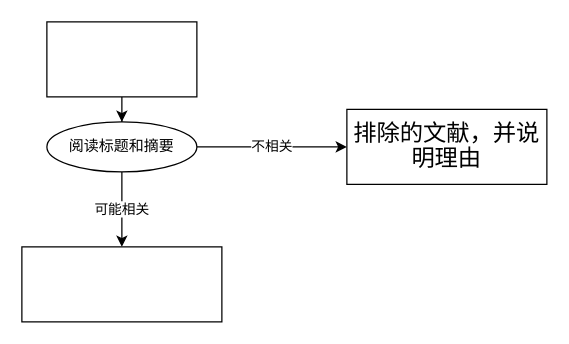
Image size: 569x344. Some labels were removed from this diagram. The centre of each missing label's shape, as x and y in pixels:
检索出的可能相关的文献: the point at 121,59
获取文献全文，进行详细评估: the point at 121,284
